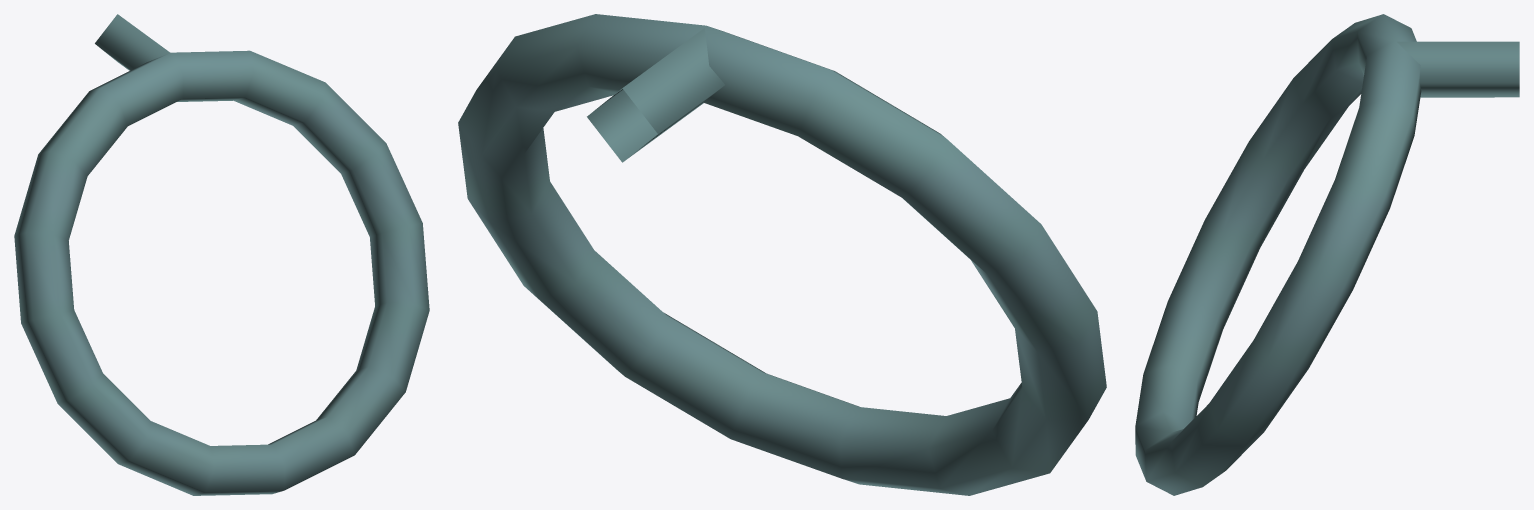
File: Grenade_Smoke_01_Pin.fbx
The picture shows the model from 3 angles, left to right: view 1: azimuth 30°, elevation 25°; view 2: azimuth 150°, elevation 25°; view 3: azimuth 270°, elevation 25°; orthographic projection. The views are drawn at different scales.
Parts seen in each view (by area): view 1: Grenade_Smoke_01_Pin; view 2: Grenade_Smoke_01_Pin; view 3: Grenade_Smoke_01_Pin.
Boxes of the visible parts, x1=… form: Grenade_Smoke_01_Pin: x1=14, y1=14, x2=429, y2=495; Grenade_Smoke_01_Pin: x1=458, y1=14, x2=1106, y2=495; Grenade_Smoke_01_Pin: x1=1135, y1=14, x2=1519, y2=495.
Bounding box in the file's own units: 5.44 × 4.9 × 3.99.
